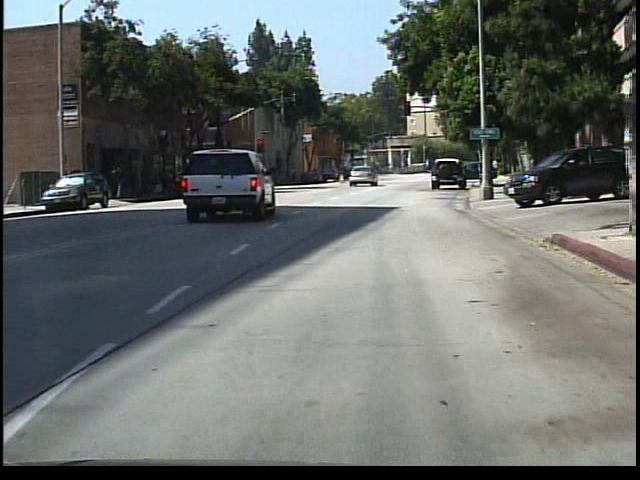person: (110, 160, 131, 201), (488, 154, 502, 180), (335, 164, 347, 186)
